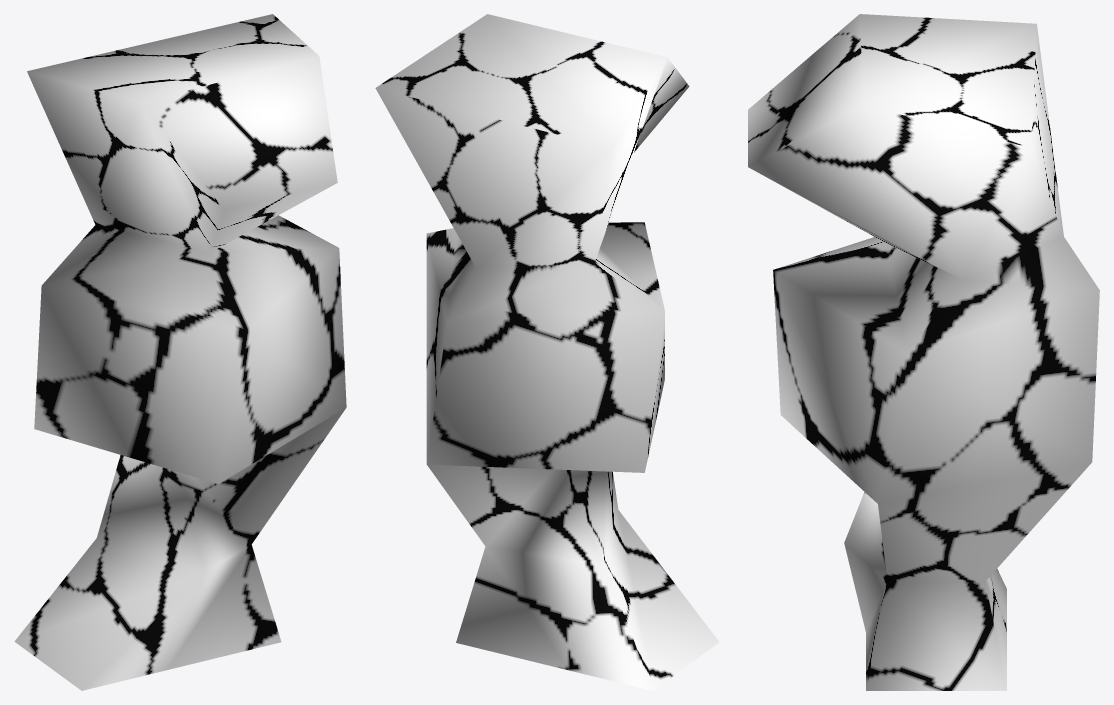
Rendered from Stone_03_03.fbx.
3 renders of one model, left to right at view 1: azimuth 30°, elevation 25°; view 2: azimuth 150°, elevation 25°; view 3: azimuth 270°, elevation 25°, orthographic. The views are drawn at different scales.
Parts seen in each view (by area): view 1: Stone_03_03; view 2: Stone_03_03; view 3: Stone_03_03.
Part boxes in pixels (x1,y1,x2,y2): Stone_03_03: (14, 14, 346, 690); Stone_03_03: (375, 14, 719, 690); Stone_03_03: (748, 14, 1099, 690).
Size of the model in its own units: 6.8 by 13.56 by 7.15.
